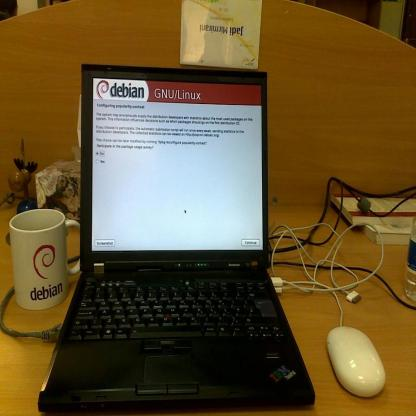board: (38, 64, 314, 411)
